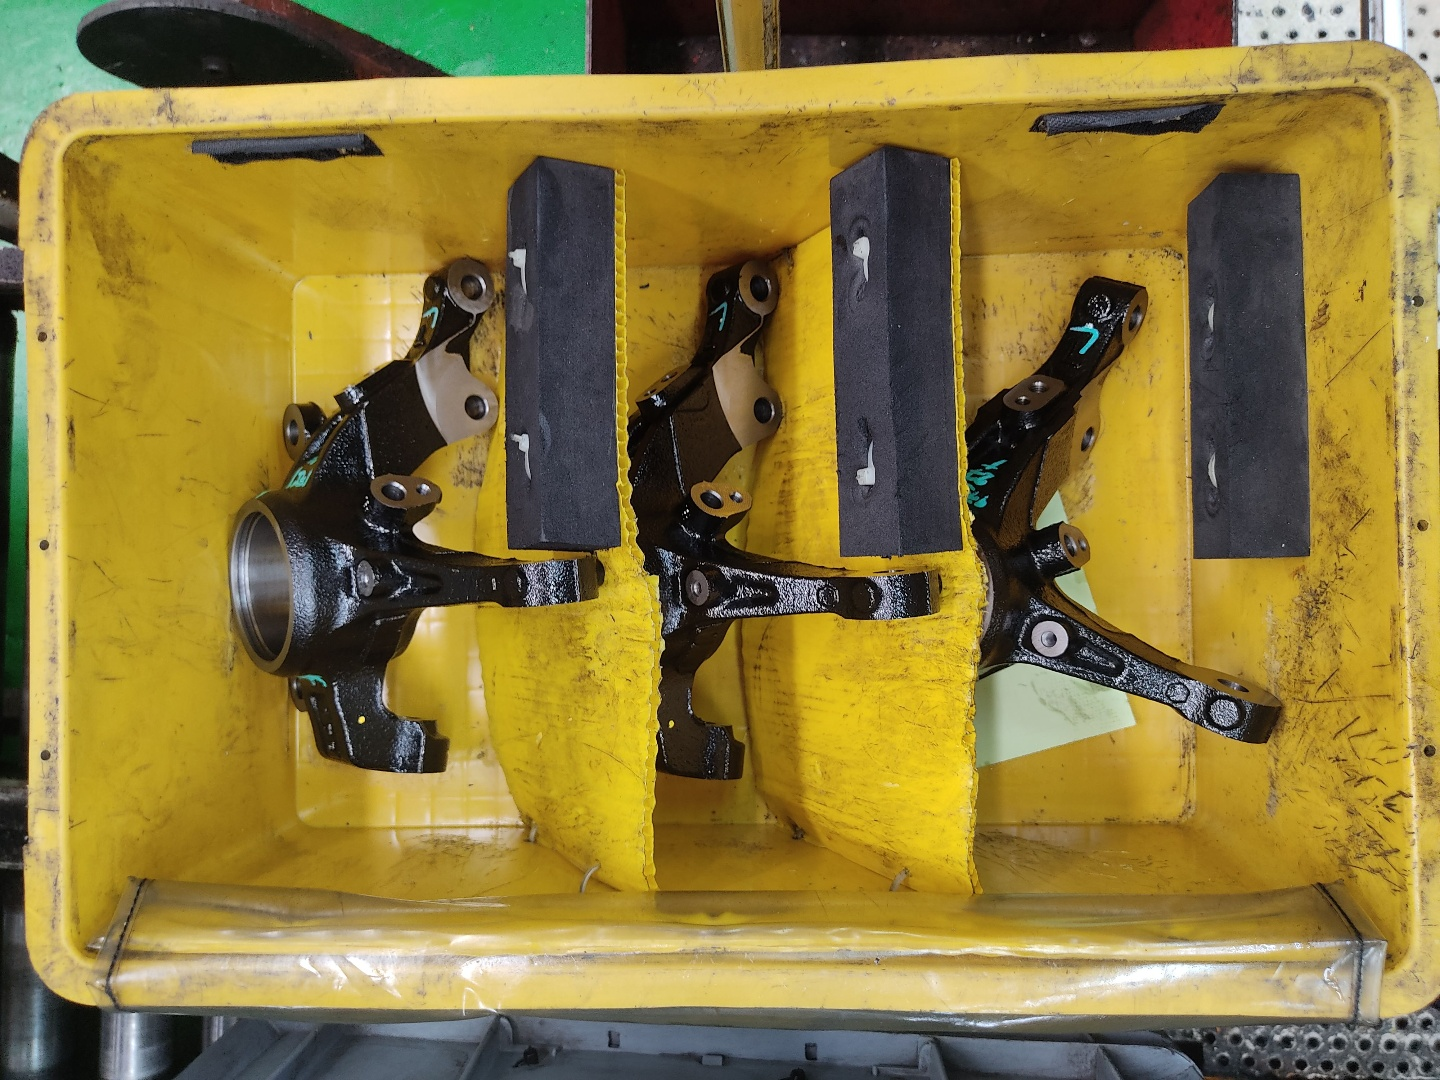abs-lh: (219, 253, 611, 781), (618, 250, 950, 784), (957, 265, 1289, 773)
